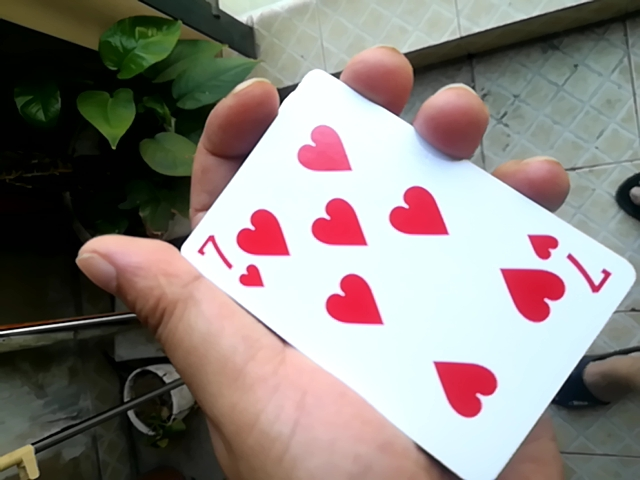hx 7: (171, 55, 635, 479)
